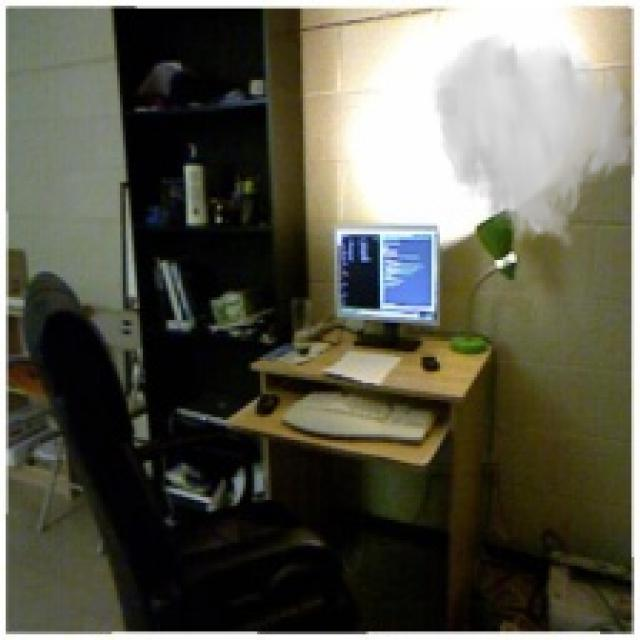smoke: (432, 32, 637, 255)
